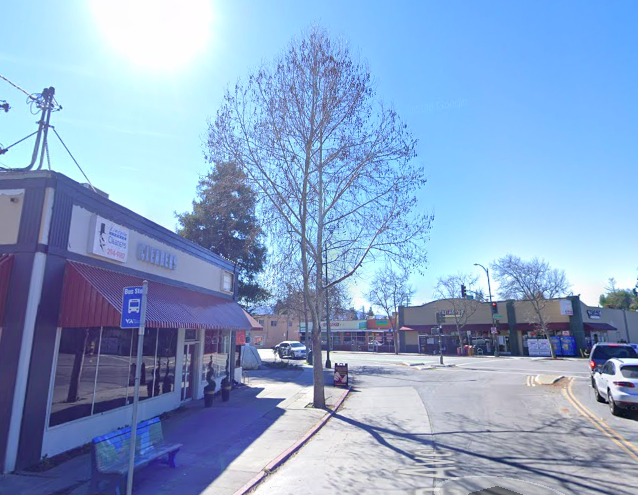tree: (199, 16, 435, 409)
